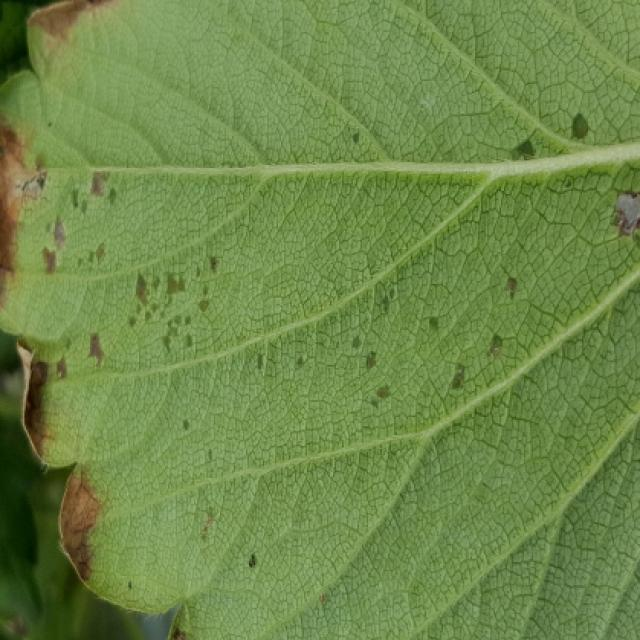Angular Leafspot: (0, 0, 638, 598)
